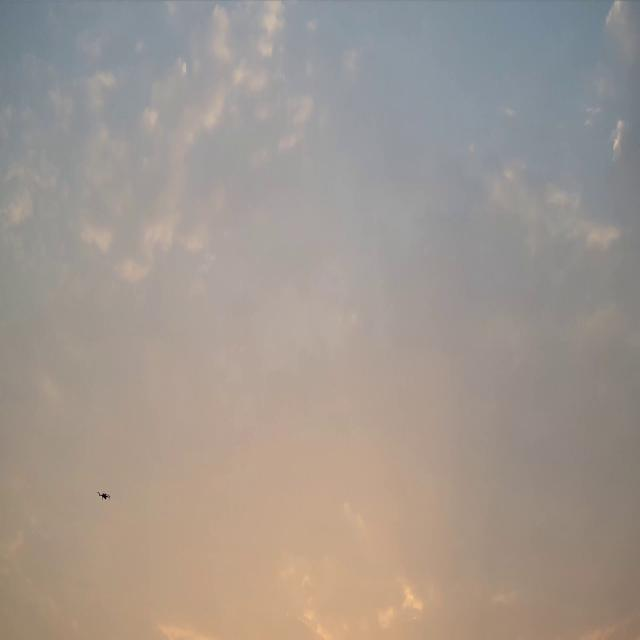drone: (96, 491, 110, 500)
